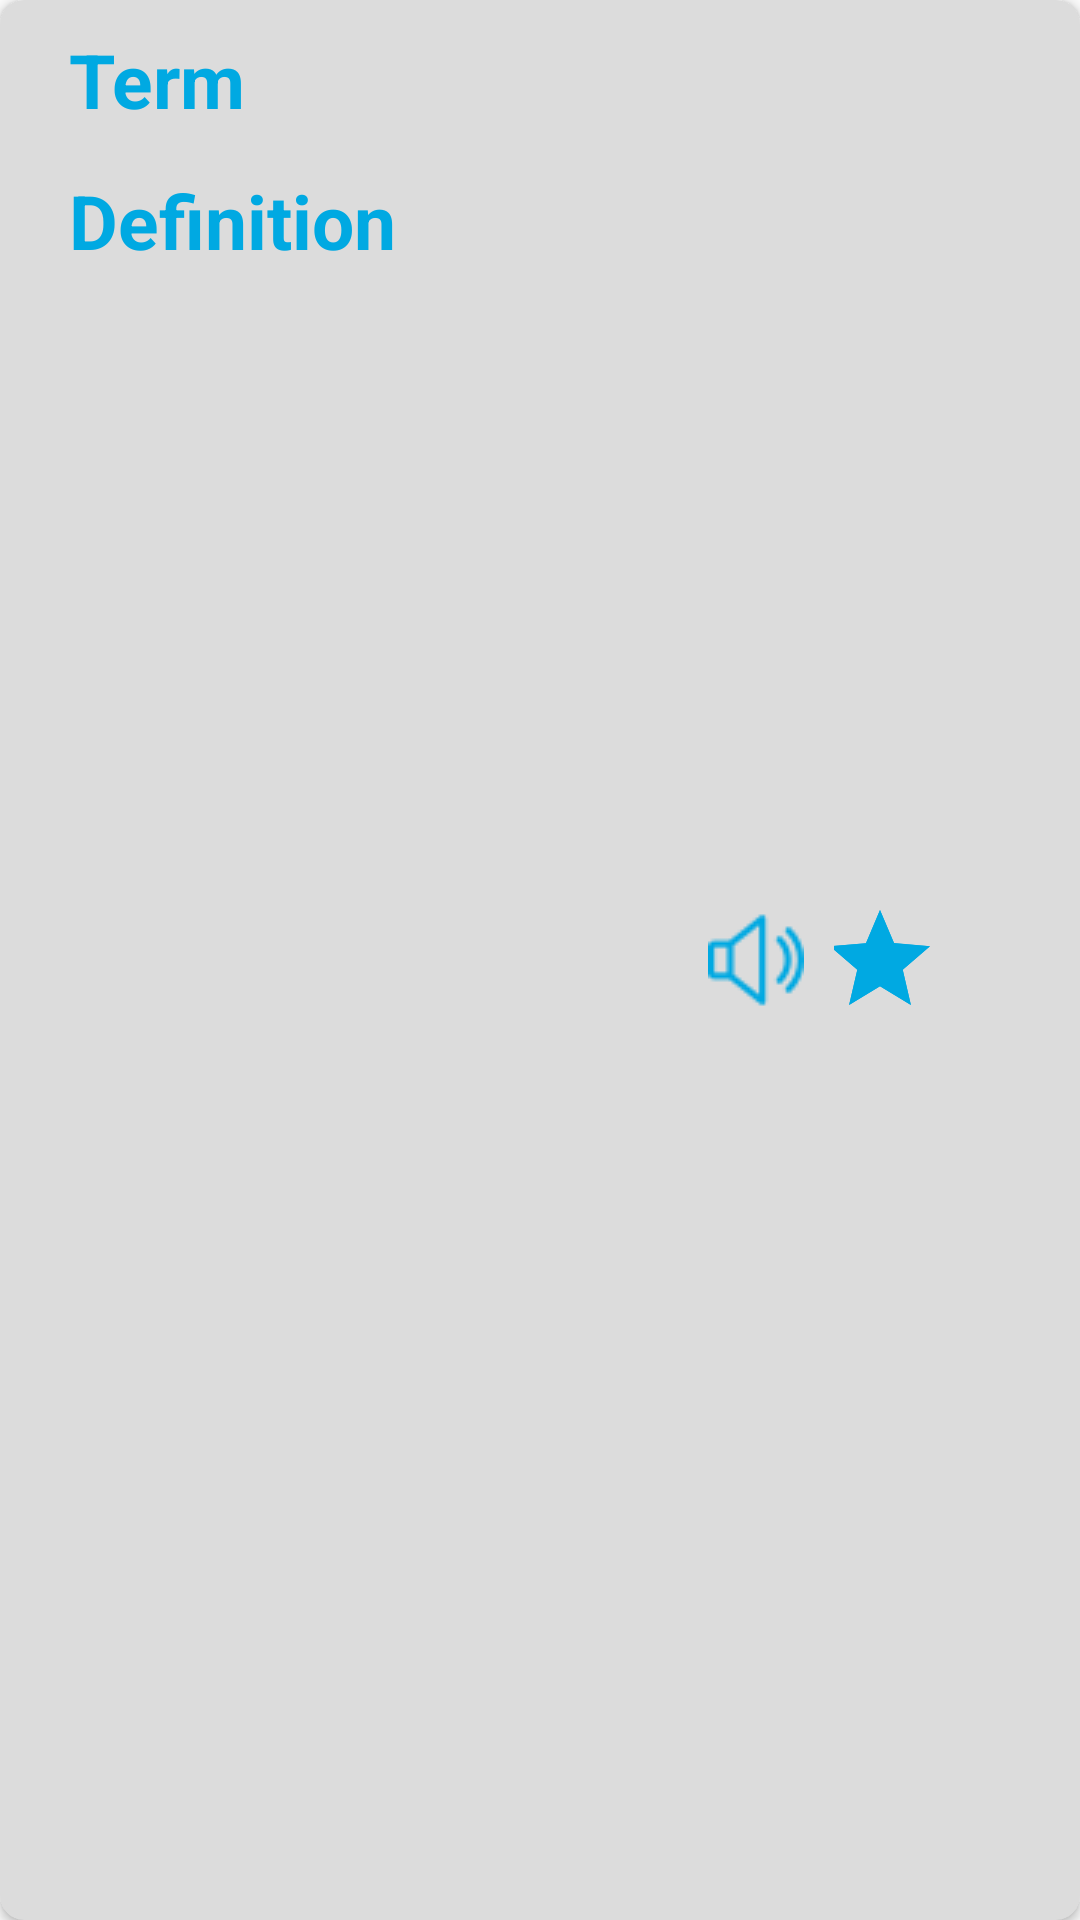

Icons on this 1080 x 1920 Android screen, each with its box as (left=x1, top=y1, right=x2, bottom=y2):
volume: (left=708, top=914, right=804, bottom=1006)
